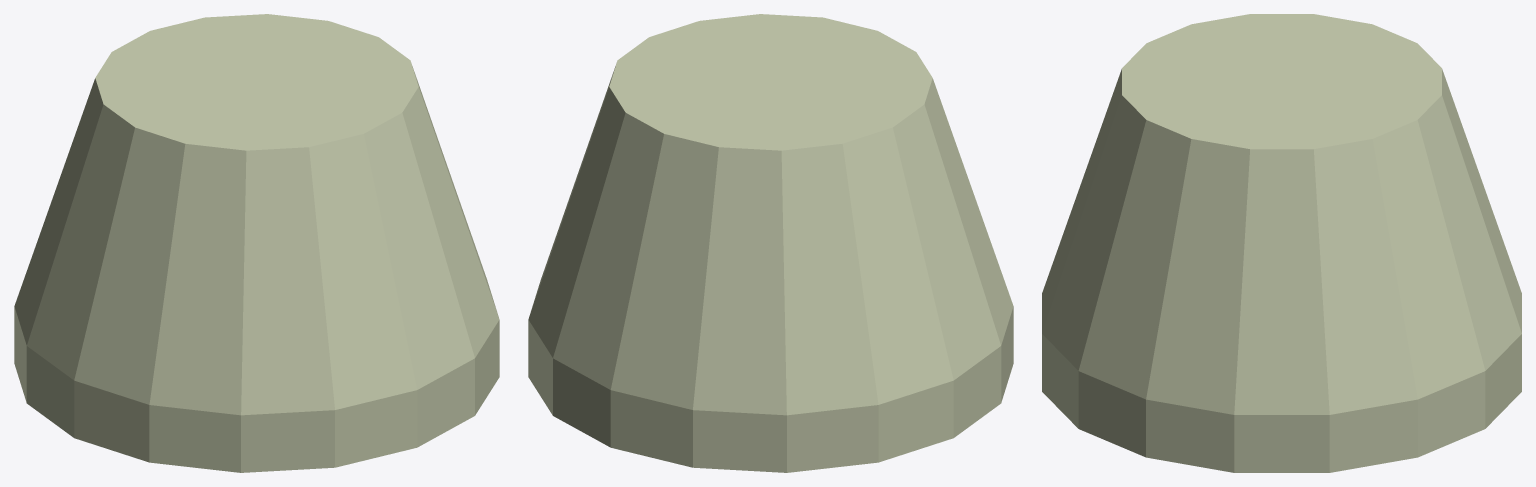
File: blue_streak_fuel_tank_s1p5_s1_1_collider.obj
The picture shows the model from 3 angles, left to right: view 1: azimuth 30°, elevation 25°; view 2: azimuth 150°, elevation 25°; view 3: azimuth 270°, elevation 25°; orthographic projection.
Parts seen in each view (by area): view 1: collider; view 2: collider; view 3: collider.
Boxes of the visible parts, <box> form: collider: <box>14,14,499,472</box>; collider: <box>528,14,1013,472</box>; collider: <box>1042,14,1521,472</box>.
Size of the model in its own units: 1.88 by 1.25 by 1.88.
